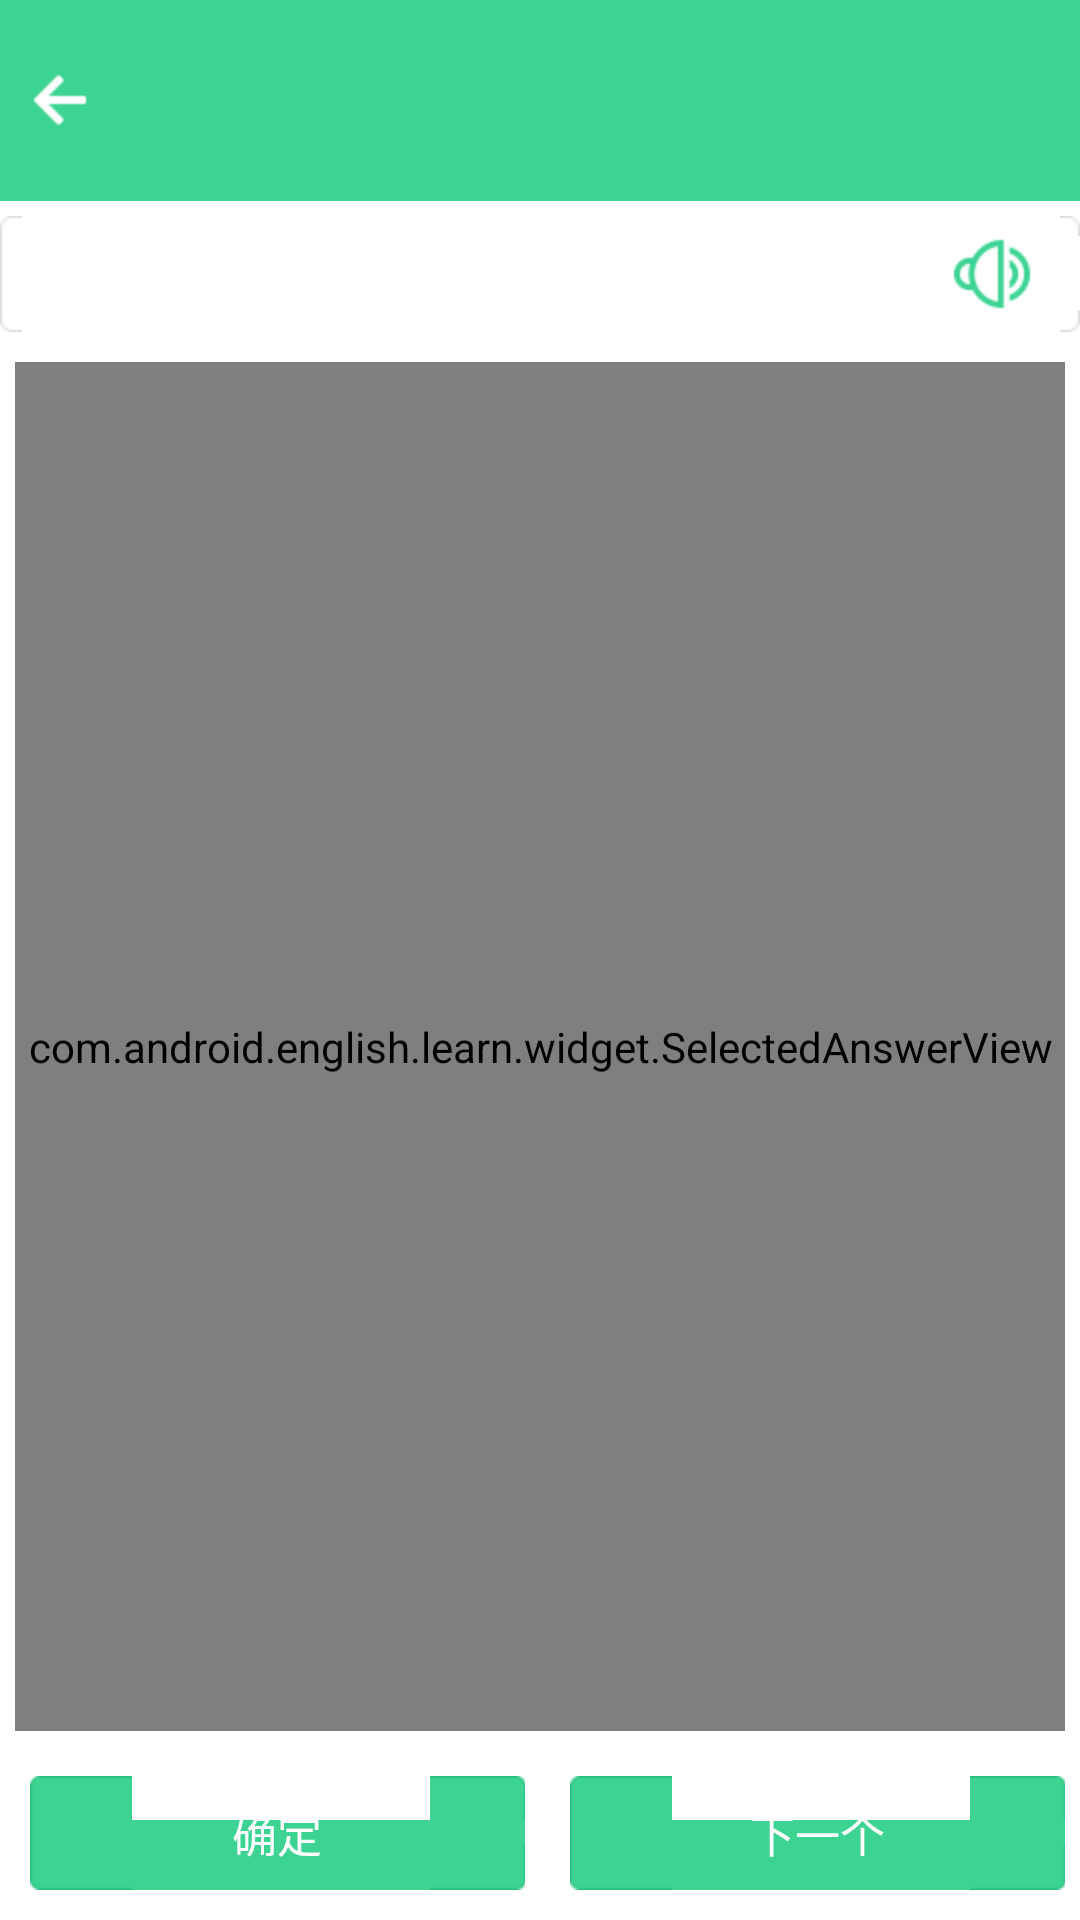

Screen size 1080px×1920px. Icon name, then its center in pixels as (x=x, y=y):
page lock screen speak: (x=992, y=274)
page main back: (x=60, y=100)
